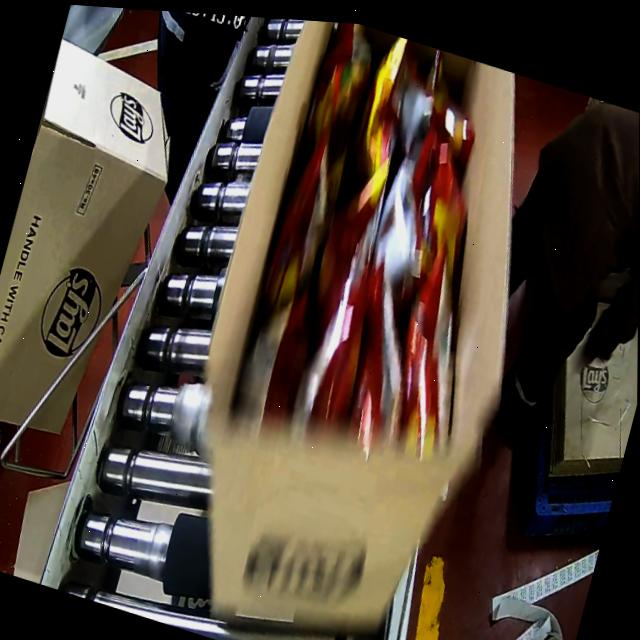MASALA: (227, 15, 531, 482)
